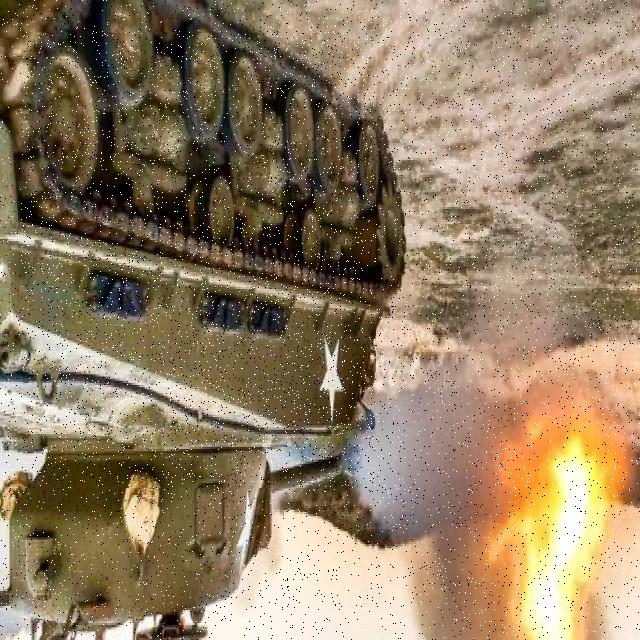MIL_MBT: (24, 32, 375, 488)
